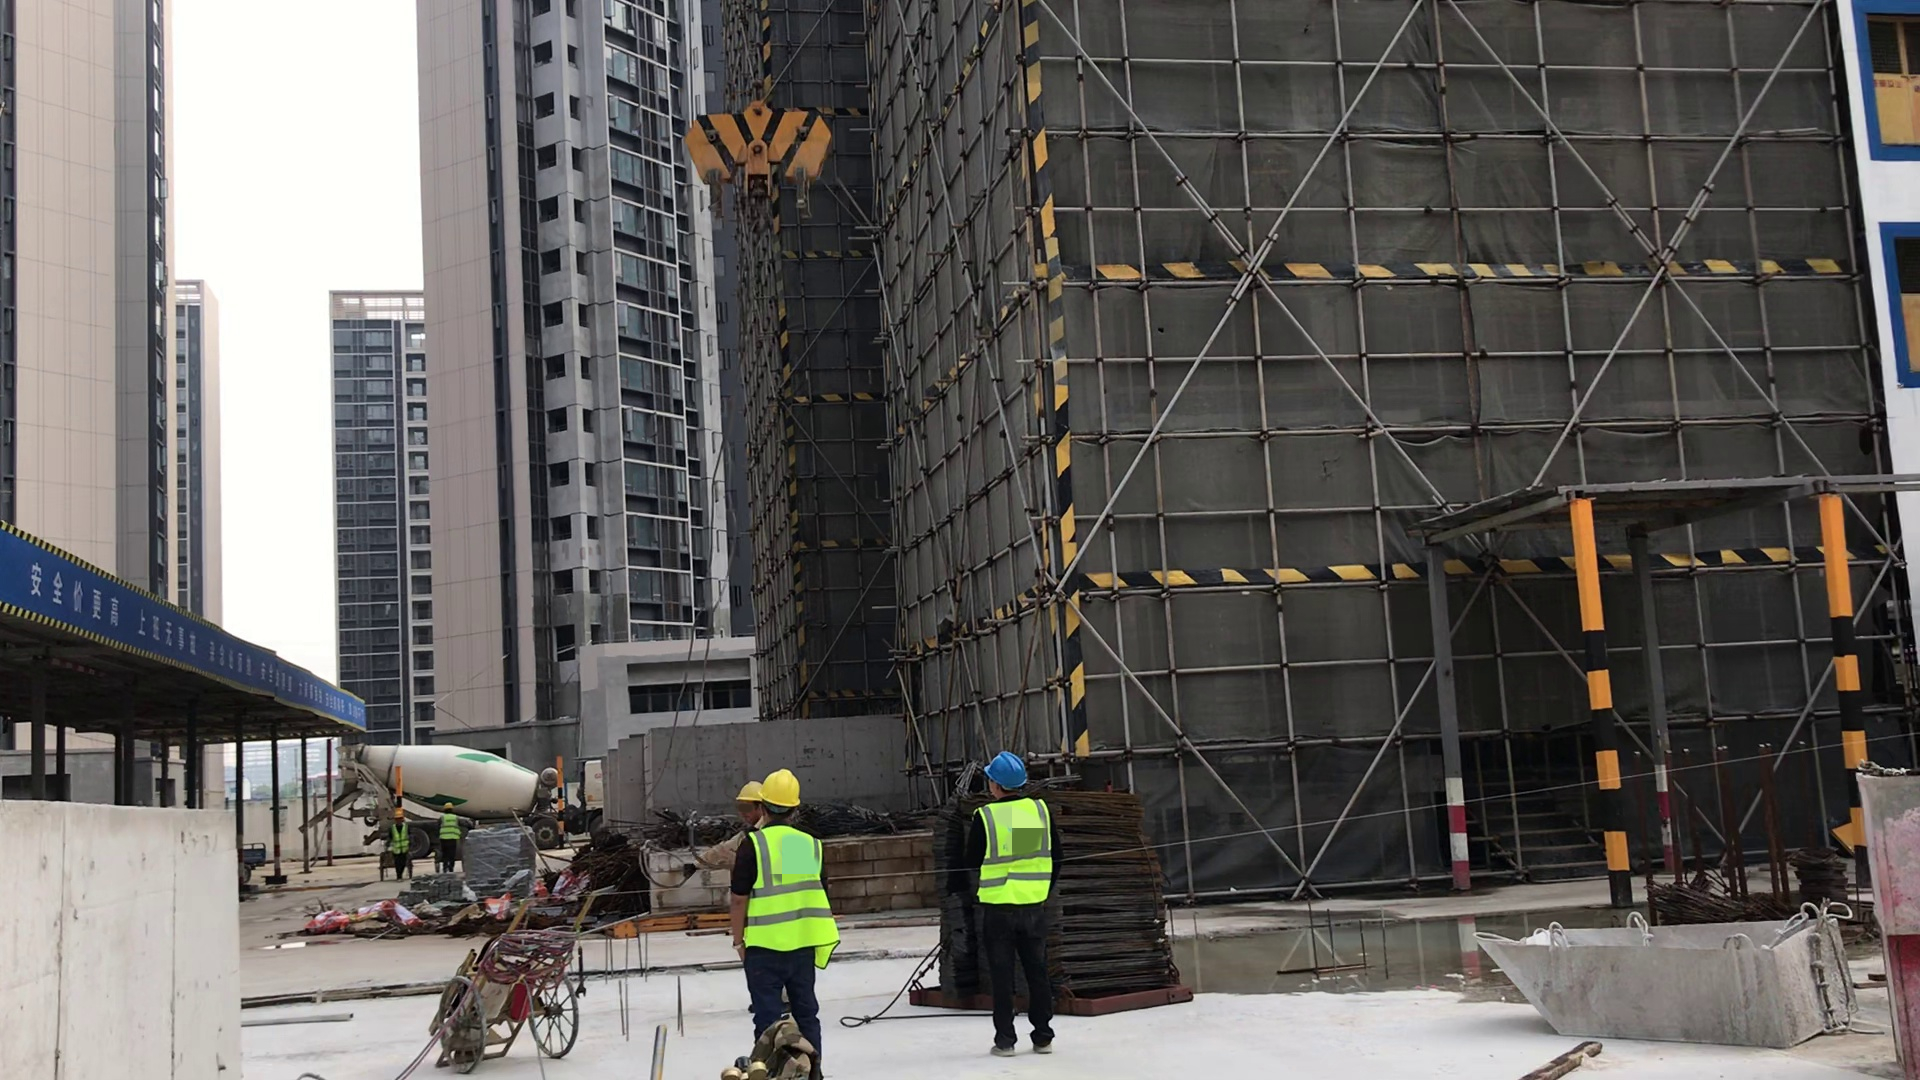handcart: (376, 853, 416, 881)
helmet: (982, 751, 1032, 788), (762, 768, 802, 804), (737, 781, 766, 802), (441, 802, 456, 810), (393, 809, 405, 818)
hook: (692, 86, 848, 216)
hopper: (1465, 894, 1861, 1039)
person: (930, 749, 1092, 1065), (724, 773, 862, 1080), (379, 808, 416, 880), (432, 800, 463, 874), (730, 780, 768, 828)
slogan: (8, 518, 364, 731)
vest: (741, 826, 834, 958), (971, 804, 1054, 908), (438, 814, 458, 839), (390, 825, 407, 853)
